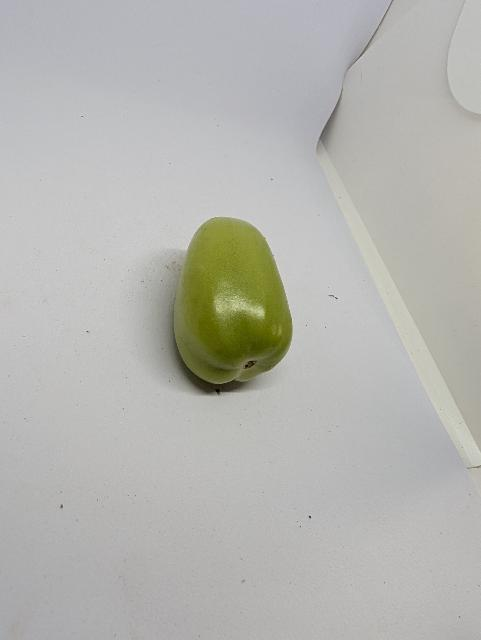green: (164, 203, 307, 412)
